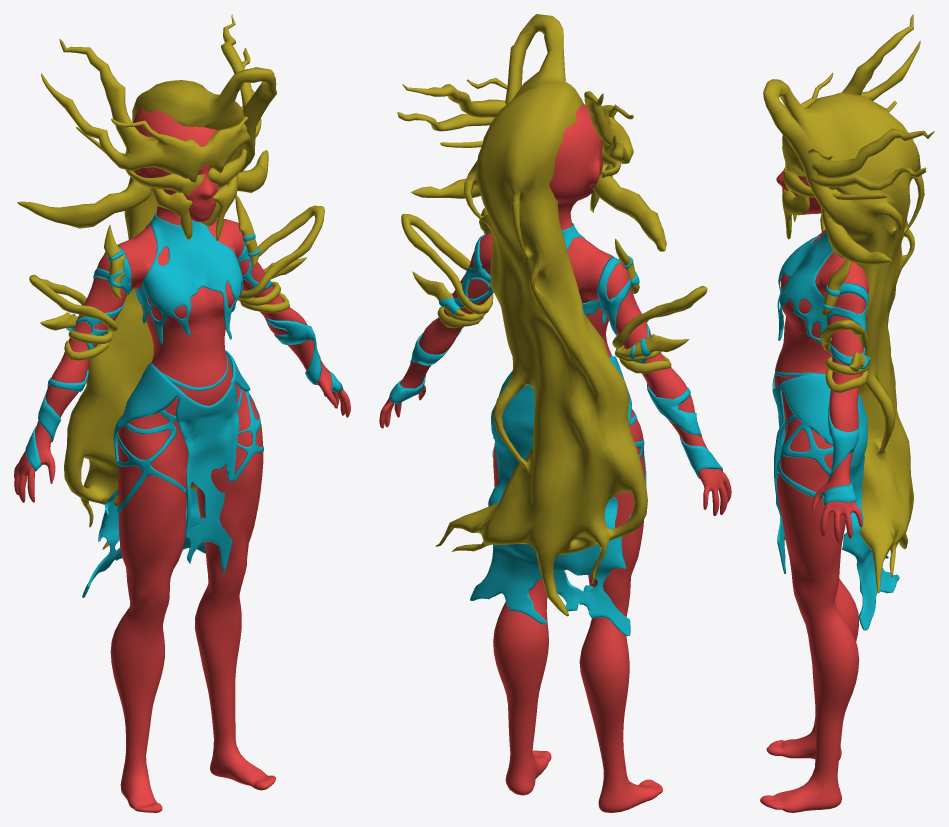
The model's file is DanaV1_3U_low.fbx.
The picture shows the model from 3 angles, left to right: view 1: azimuth 30°, elevation 25°; view 2: azimuth 150°, elevation 25°; view 3: azimuth 270°, elevation 25°; orthographic projection. The views are drawn at different scales.
Parts seen in each view (by area): view 1: Body_low; view 2: Body_low; view 3: Body_low.
Boxes of the visible parts, left/top/right/bottom form: Body_low: left=14, top=14, right=350, bottom=812; Body_low: left=379, top=14, right=731, bottom=812; Body_low: left=760, top=14, right=934, bottom=812.
Size of the model in its own units: 494 by 1051 by 227.
